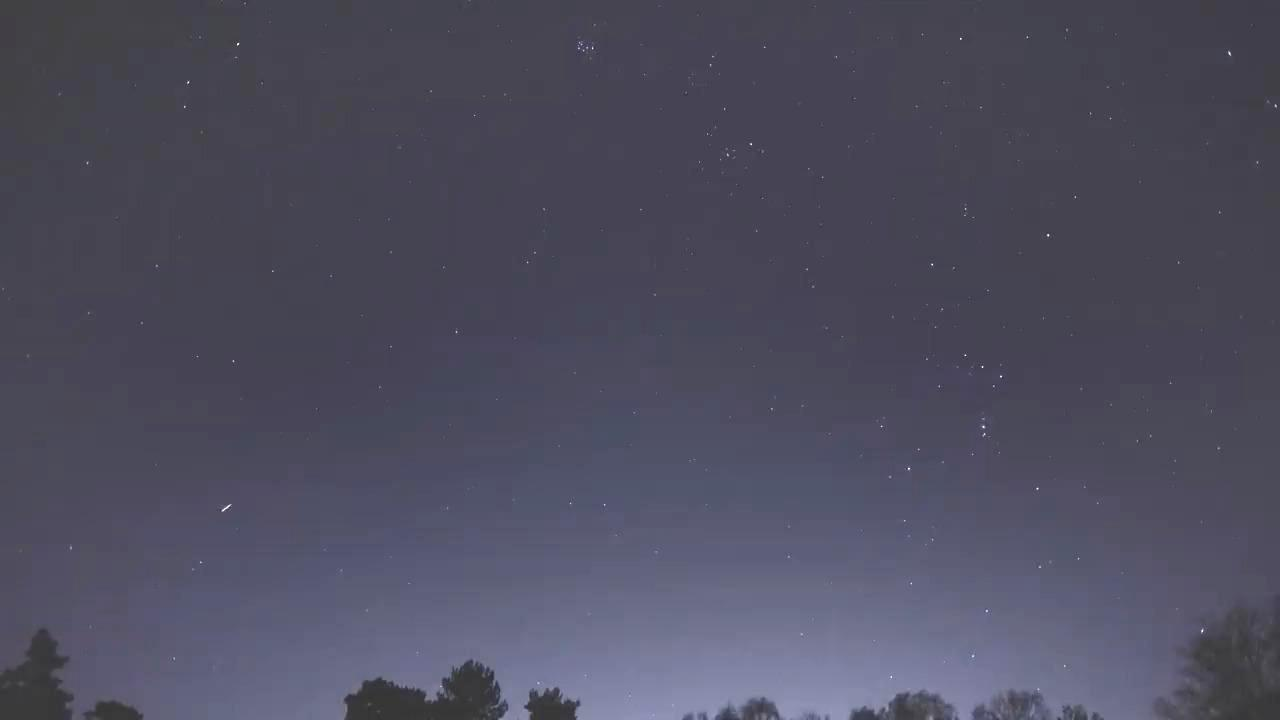meteorite: (207, 498, 246, 516)
